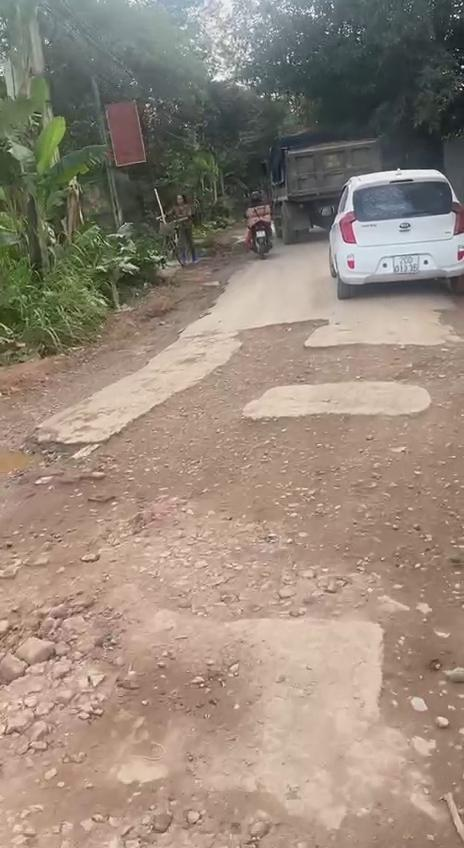pothole: (89, 311, 464, 598), (0, 425, 88, 494)
